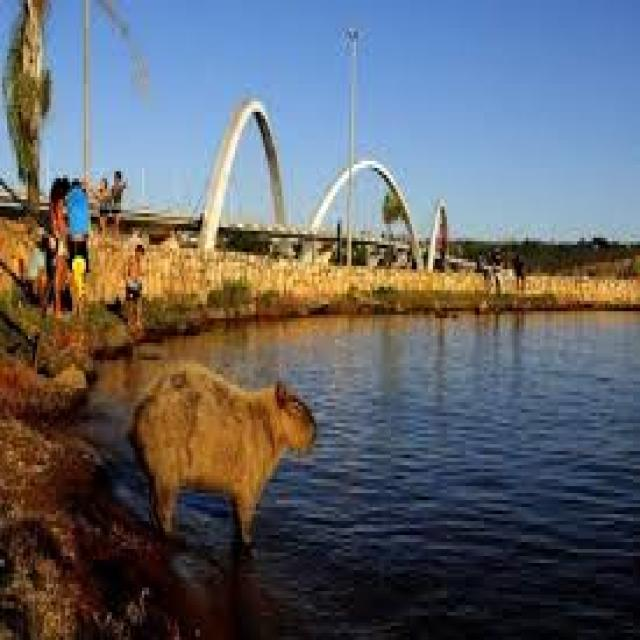capy: (130, 356, 318, 549)
